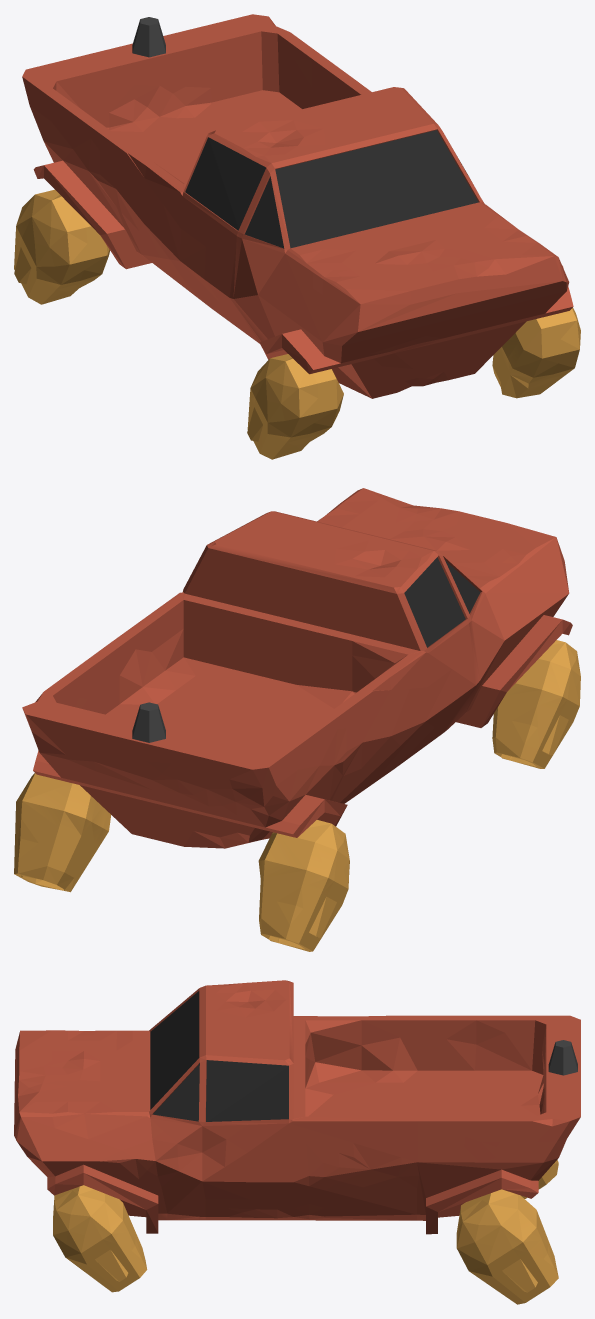
The model's file is t-ruck_enemy_shaded.fbx.
3 renders of one model, top to bottom at view 1: azimuth 30°, elevation 25°; view 2: azimuth 150°, elevation 25°; view 3: azimuth 270°, elevation 25°, orthographic. The views are drawn at different scales.
Parts seen in each view (by area): view 1: T_Ruck, Hover_Engine, Hover_Engine3, Hover_Engine2, Turret_Mount; view 2: T_Ruck, Hover_Engine, Hover_Engine1, Hover_Engine3, Turret_Mount; view 3: T_Ruck, Hover_Engine1, Hover_Engine2, Turret_Mount.
Part boxes in pixels (x1,y1,x2,y2): T_Ruck: (22,14,573,398); Hover_Engine: (14,189,109,304); Hover_Engine3: (247,354,343,459); Hover_Engine2: (492,307,580,398); Turret_Mount: (132,17,165,57); T_Ruck: (22,488,572,848); Hover_Engine: (258,820,349,951); Hover_Engine1: (14,773,110,892); Hover_Engine3: (492,640,580,768); Turret_Mount: (132,702,165,742); T_Ruck: (14,980,580,1234); Hover_Engine1: (456,1189,558,1304); Hover_Engine2: (53,1185,147,1292); Turret_Mount: (548,1040,577,1075).
Size of the model in its own units: 497 by 394 by 890.
